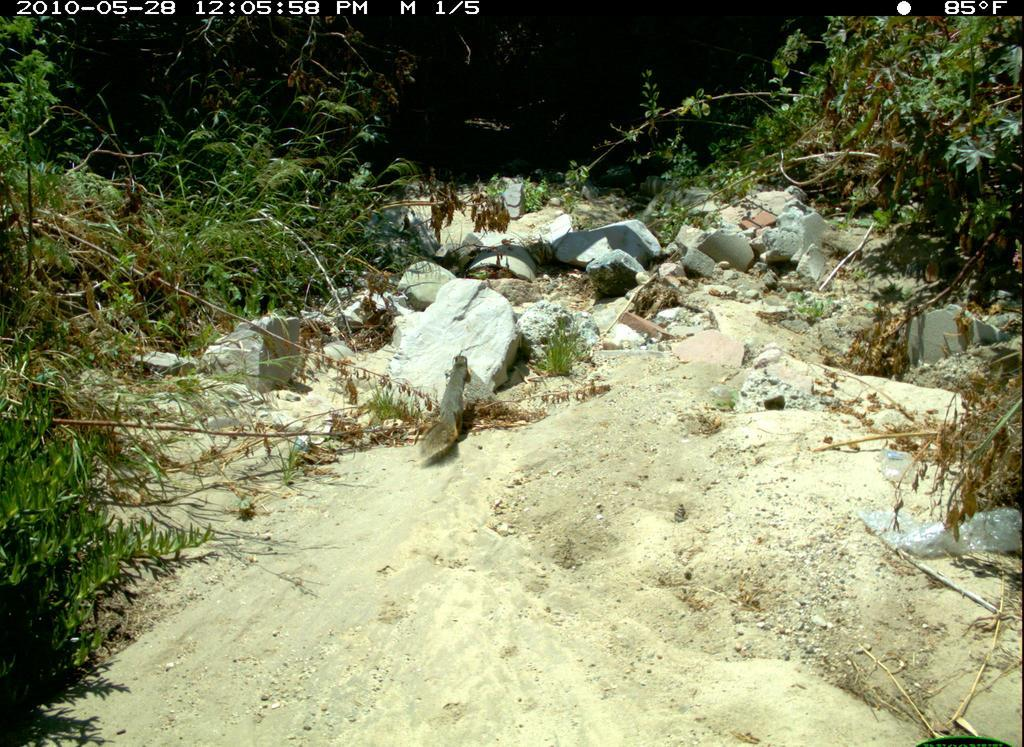squirrel: (413, 345, 477, 472)
